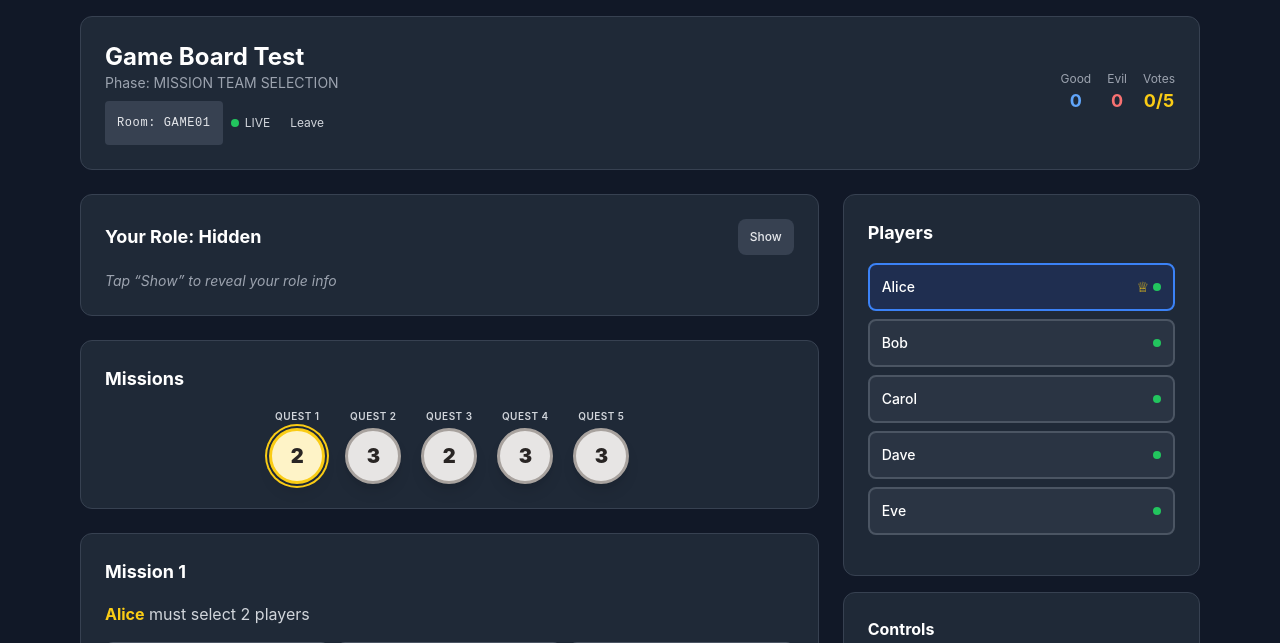
Scenario: GameBoard › role info display › shows visible players when role sees others and revealed
Click the button "Show" at [766, 237], box left=738, top=219, right=794, bottom=255
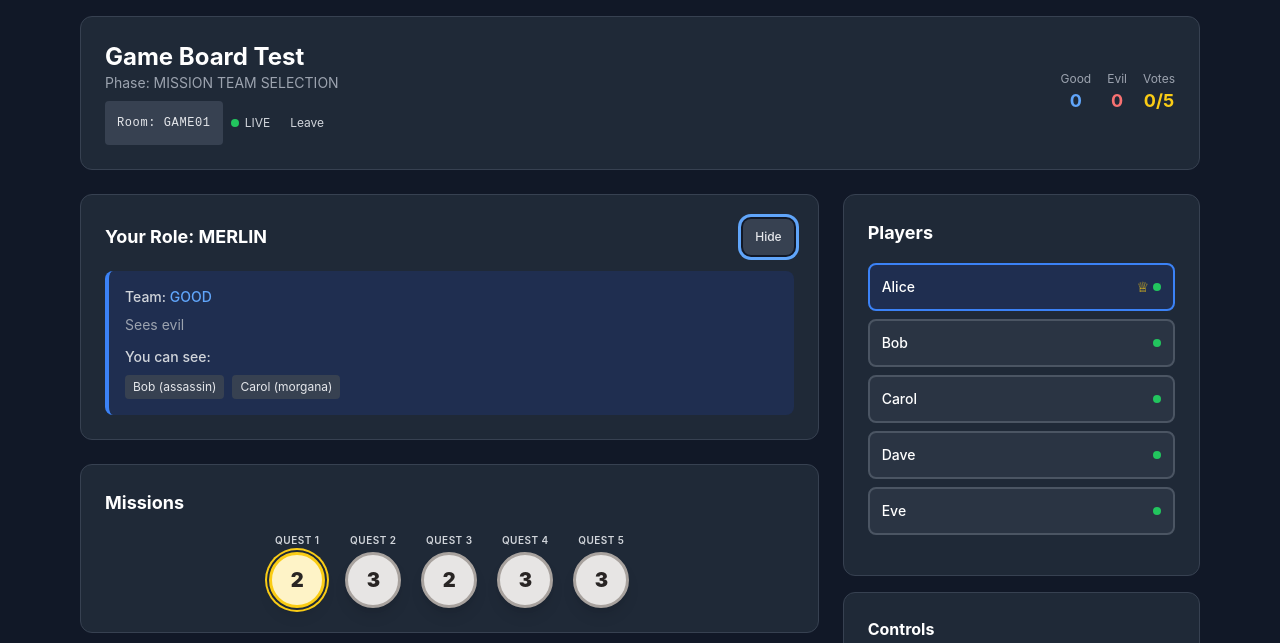
expect the text "You can see:" is shown: met, box left=125, top=348, right=211, bottom=365
expect the text "Bob (assassin)" is shown: met, box left=125, top=375, right=224, bottom=399
expect the text "Carol (morgana)" is shown: met, box left=232, top=375, right=340, bottom=399
